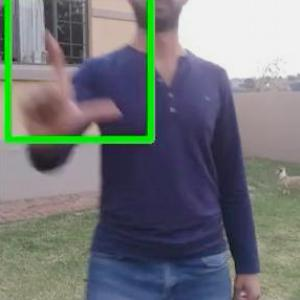land_hand: (7, 22, 125, 137)
